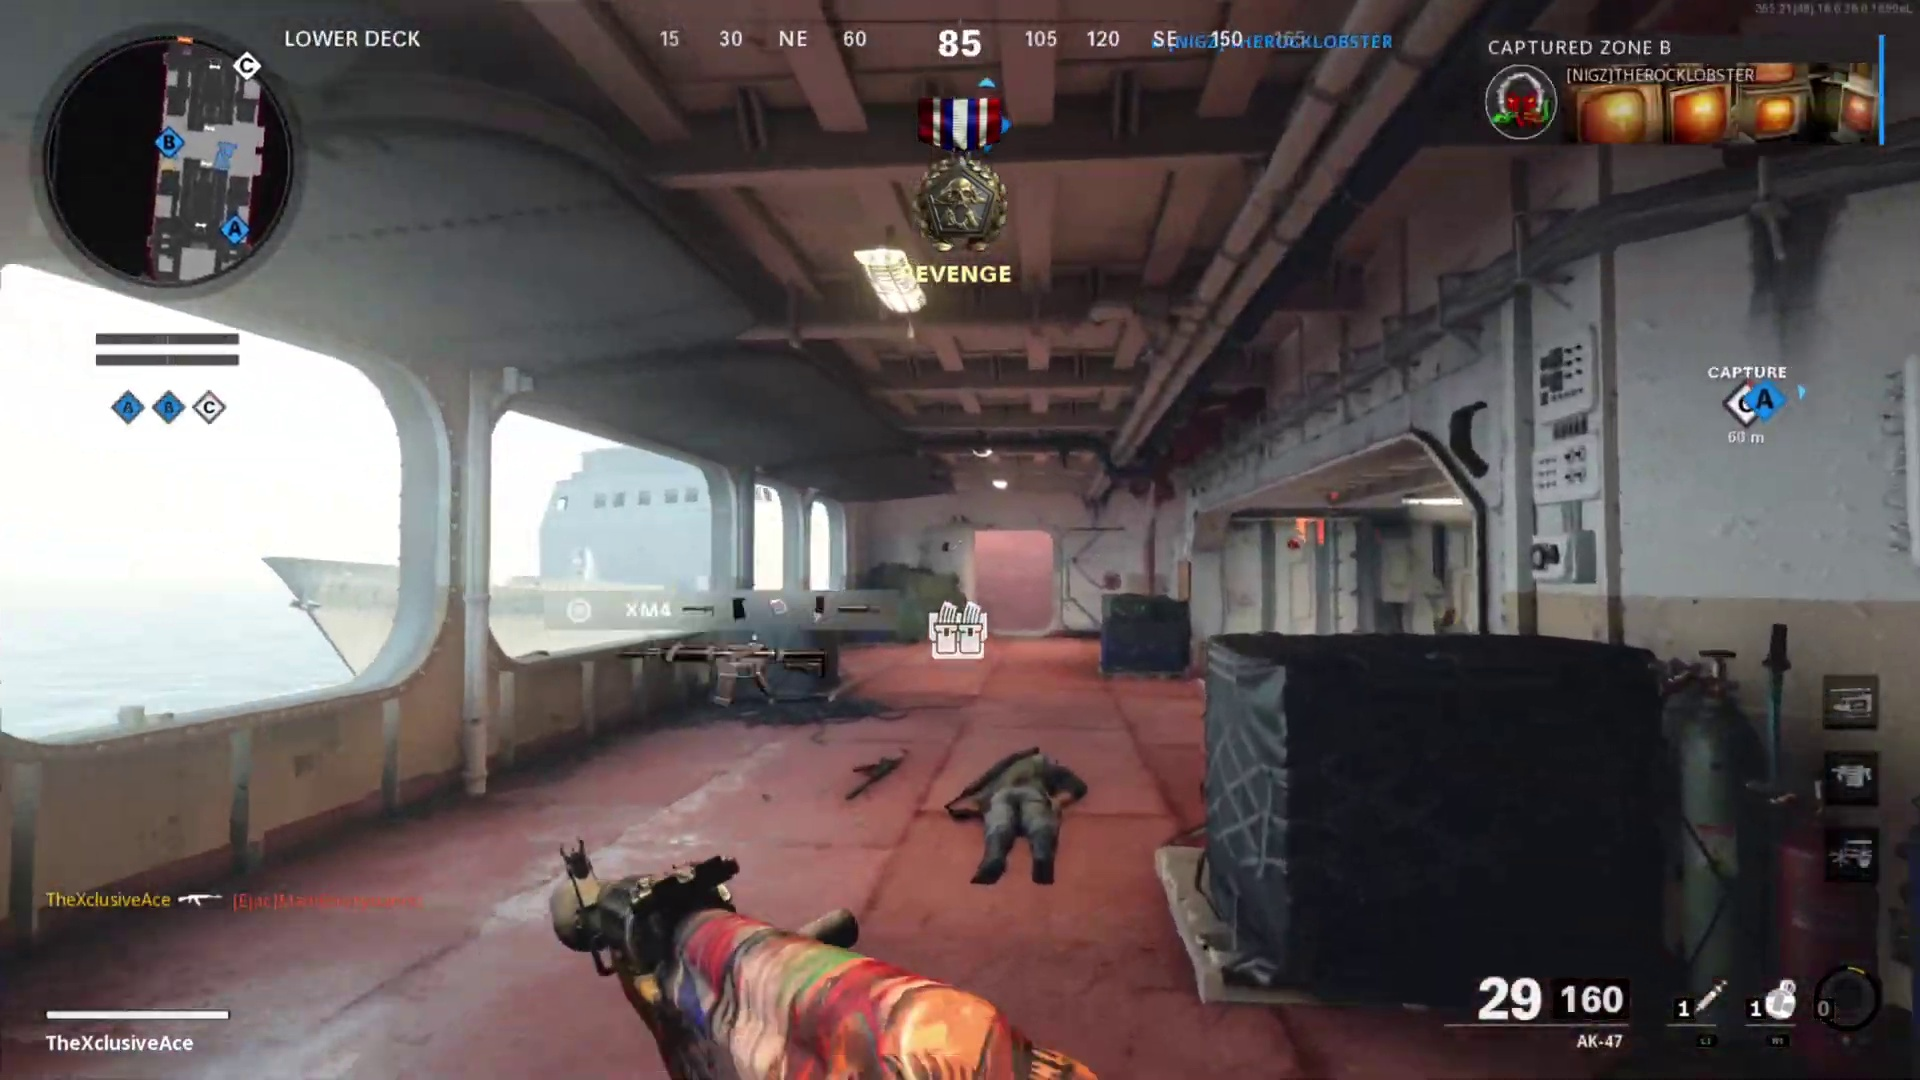person: (937, 747, 1085, 889)
